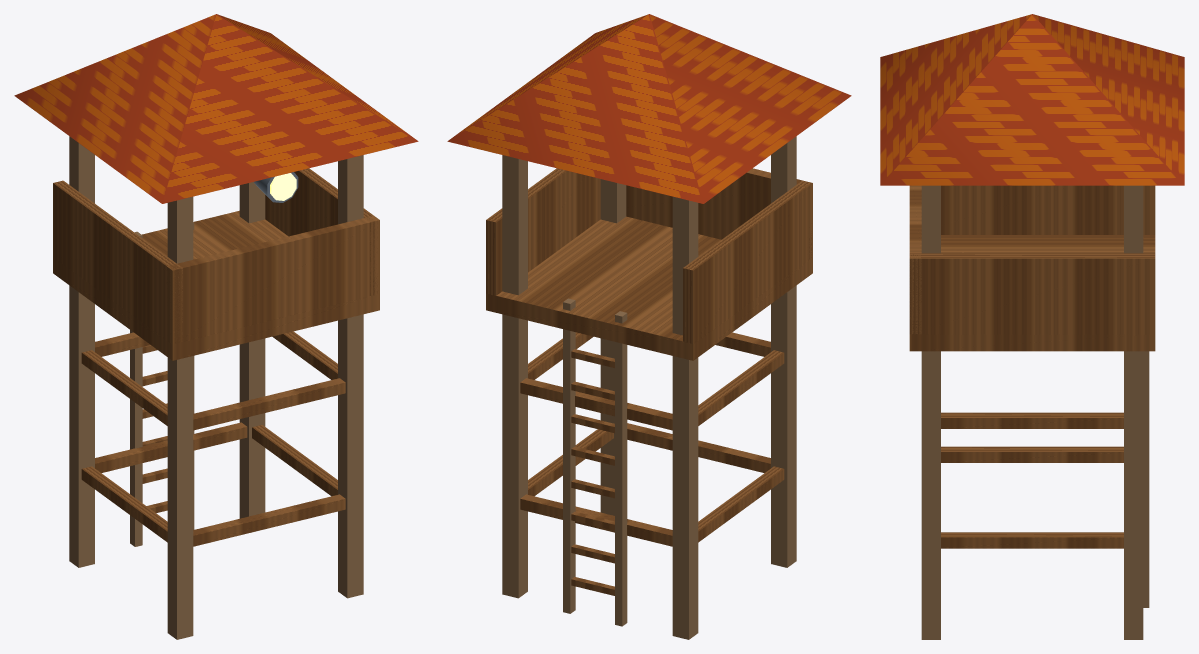
Rendered from watchtower_wooden.glb.
3 views of the same model, side by side, from view 1: azimuth 30°, elevation 25°; view 2: azimuth 150°, elevation 25°; view 3: azimuth 270°, elevation 25° (orthographic). The views are drawn at different scales.
Parts seen in each view (by area): view 1: watchtower_wooden, searchlight_pivot; view 2: watchtower_wooden; view 3: watchtower_wooden.
Part boxes in pixels (x1=…): watchtower_wooden: x1=14, y1=14, x2=418, y2=639; searchlight_pivot: x1=254, y1=172, x2=298, y2=202; watchtower_wooden: x1=447, y1=14, x2=851, y2=639; watchtower_wooden: x1=880, y1=14, x2=1184, y2=639.
Bounding box in the file's own units: 3.46 × 7.28 × 3.46.
Materials: 5 (2 with a texture image).
